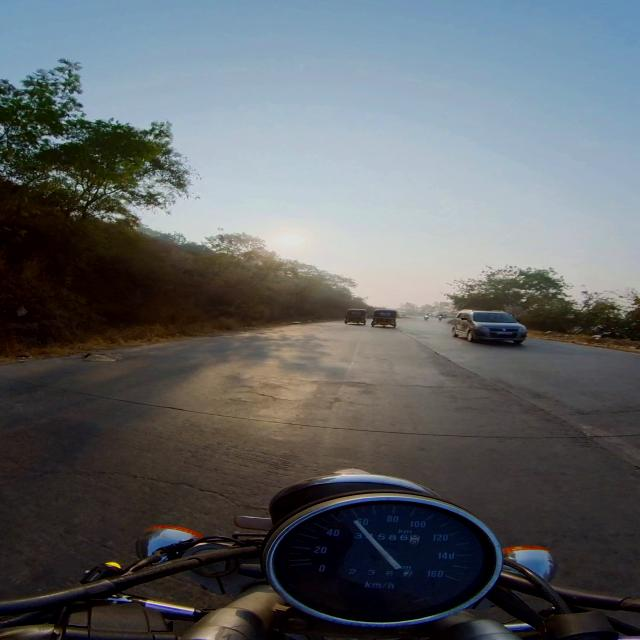car: (450, 310, 526, 344)
motorcycle: (0, 470, 639, 639)
